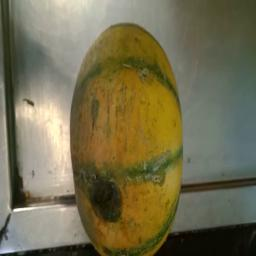Melon Semirotten: (63, 17, 190, 256)
